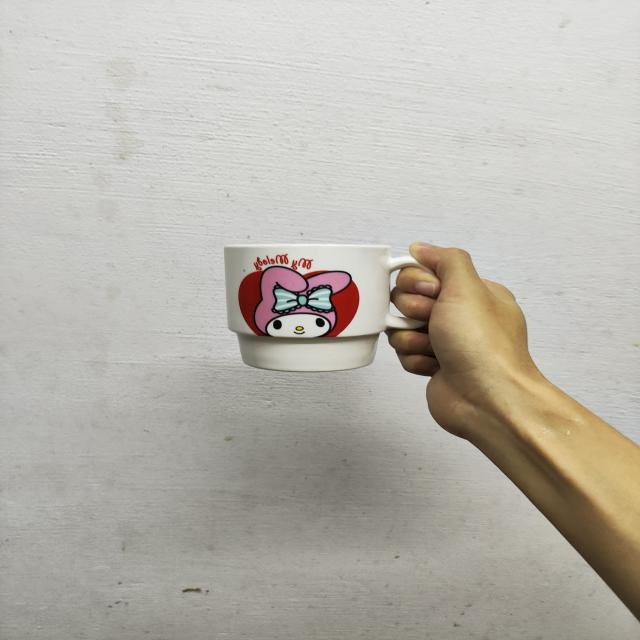cup: (212, 232, 450, 388)
